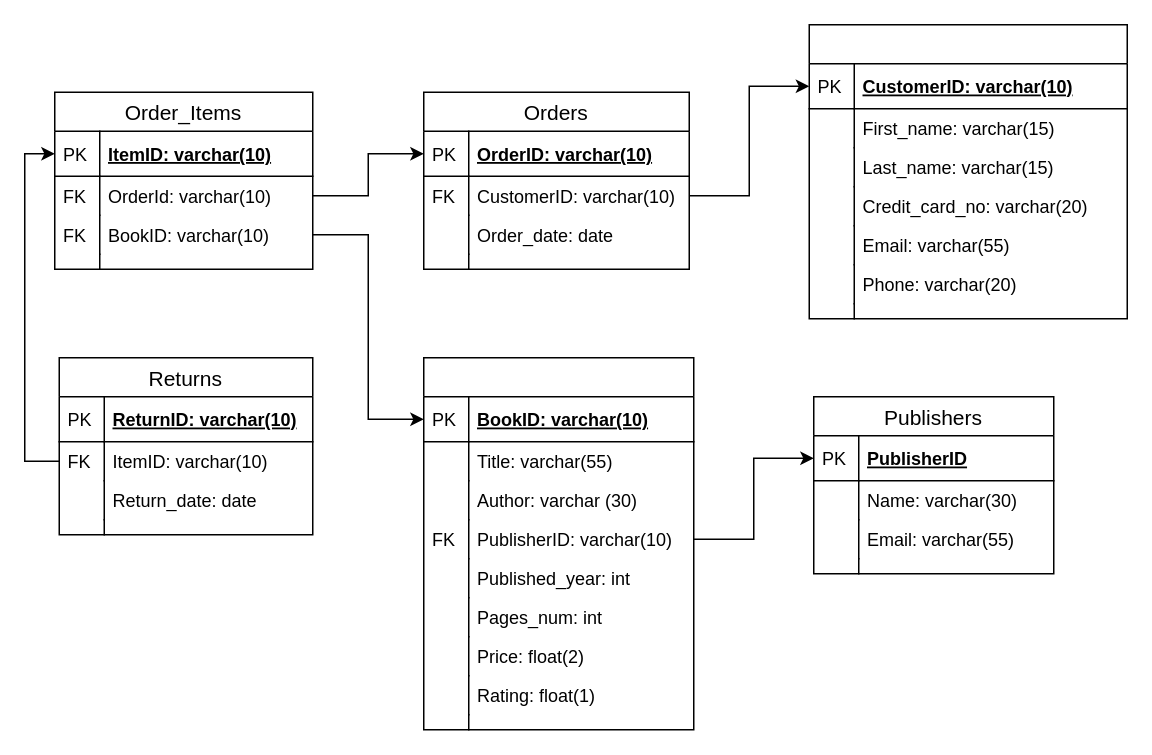
Image size: 1152x755. Some labels were removed from this diagram. The box of each missing label's shape, as (x1, y1, x2, y2) in pixels:
Books: (422, 356, 694, 730)
Customers: (808, 23, 1127, 319)
